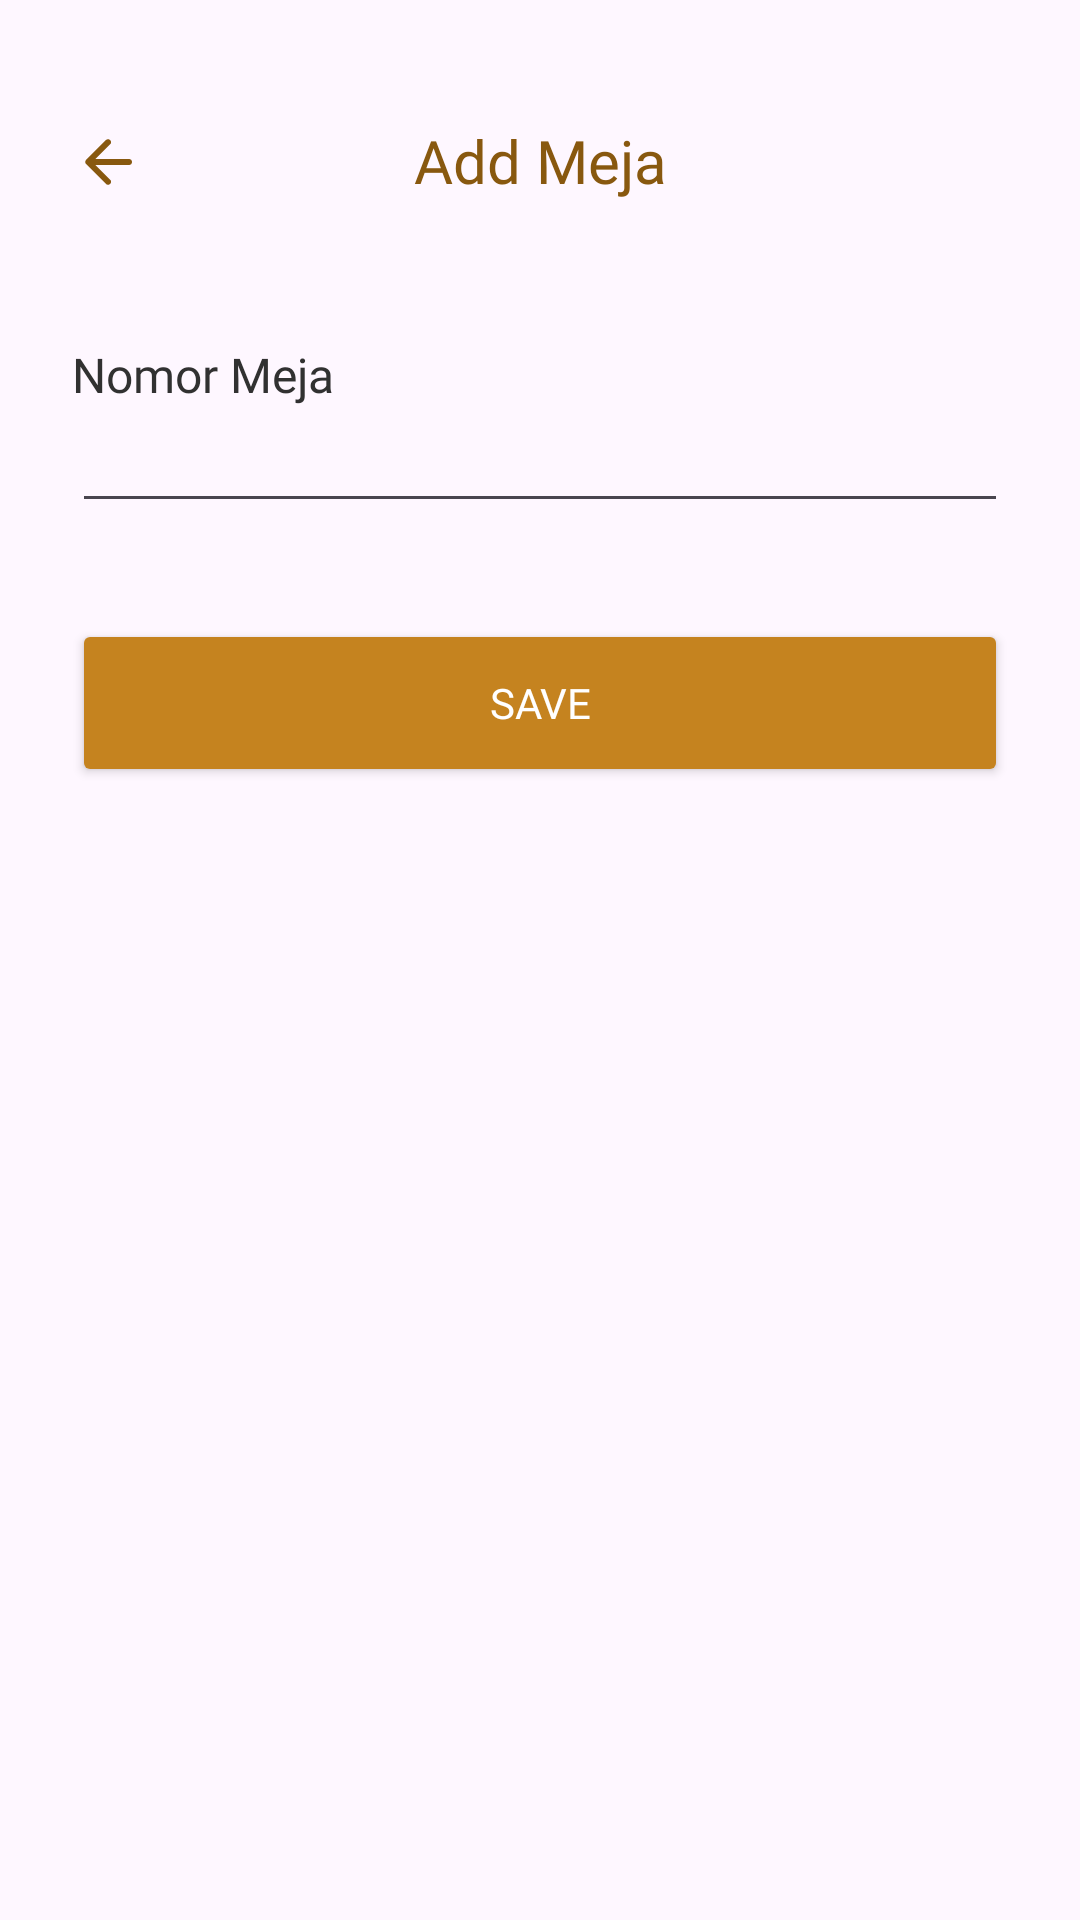

Point at icon controls on the screen. Image size 1080*1920, points as [x,y].
back: [108,162]
